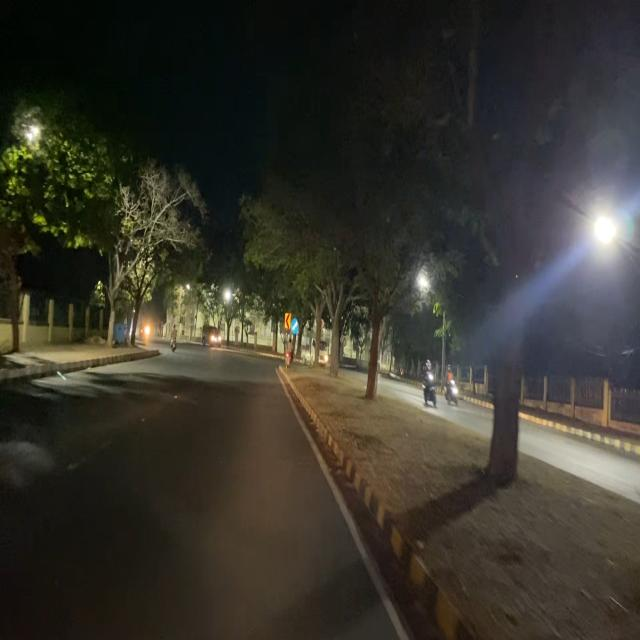bien_cam: (290, 316, 300, 335)
